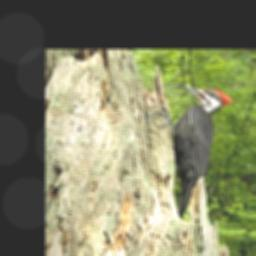Woodpecker: (153, 84, 235, 221)
